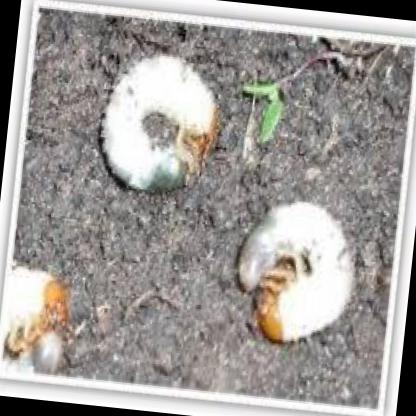root grubs: (238, 196, 355, 345), (100, 56, 219, 196)
